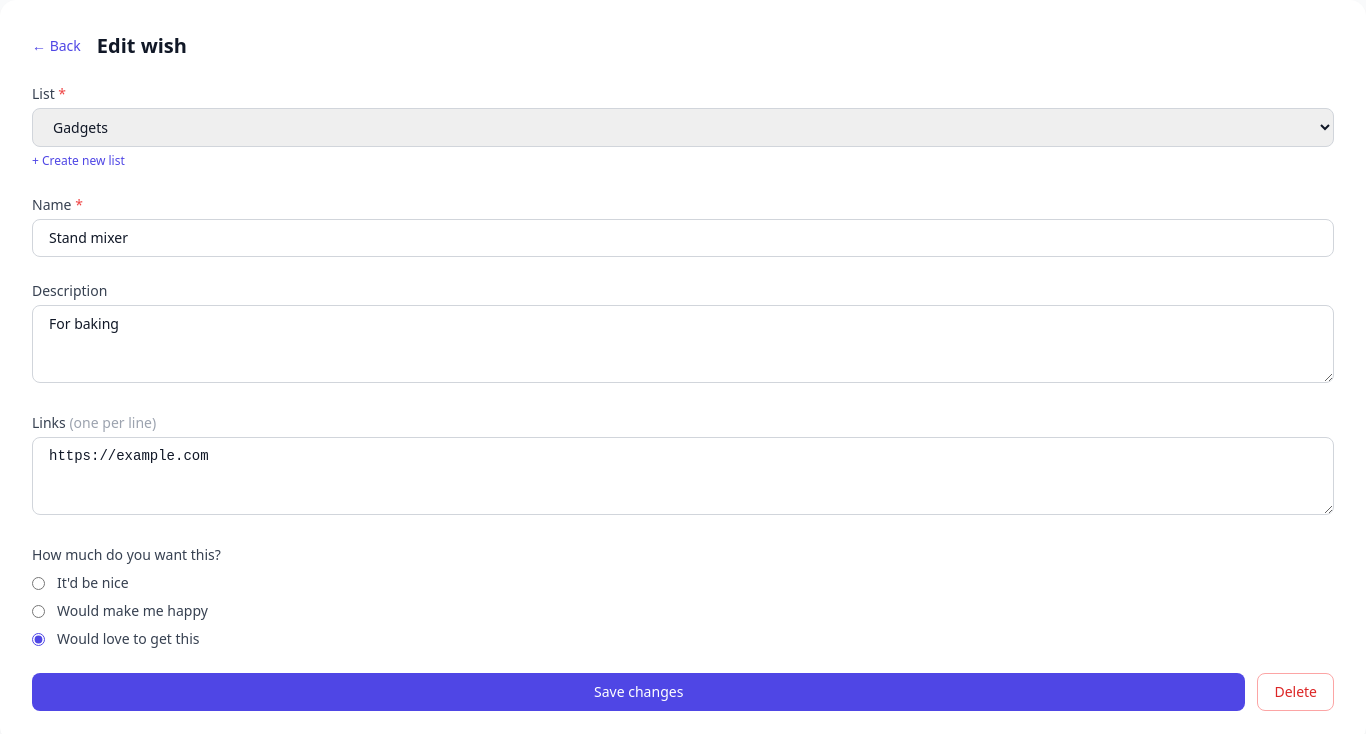
Test: EditWishForm — submit › shows an error message when PATCH fails
Click the button "Save changes" at (639, 692), box [32, 673, 1245, 711]
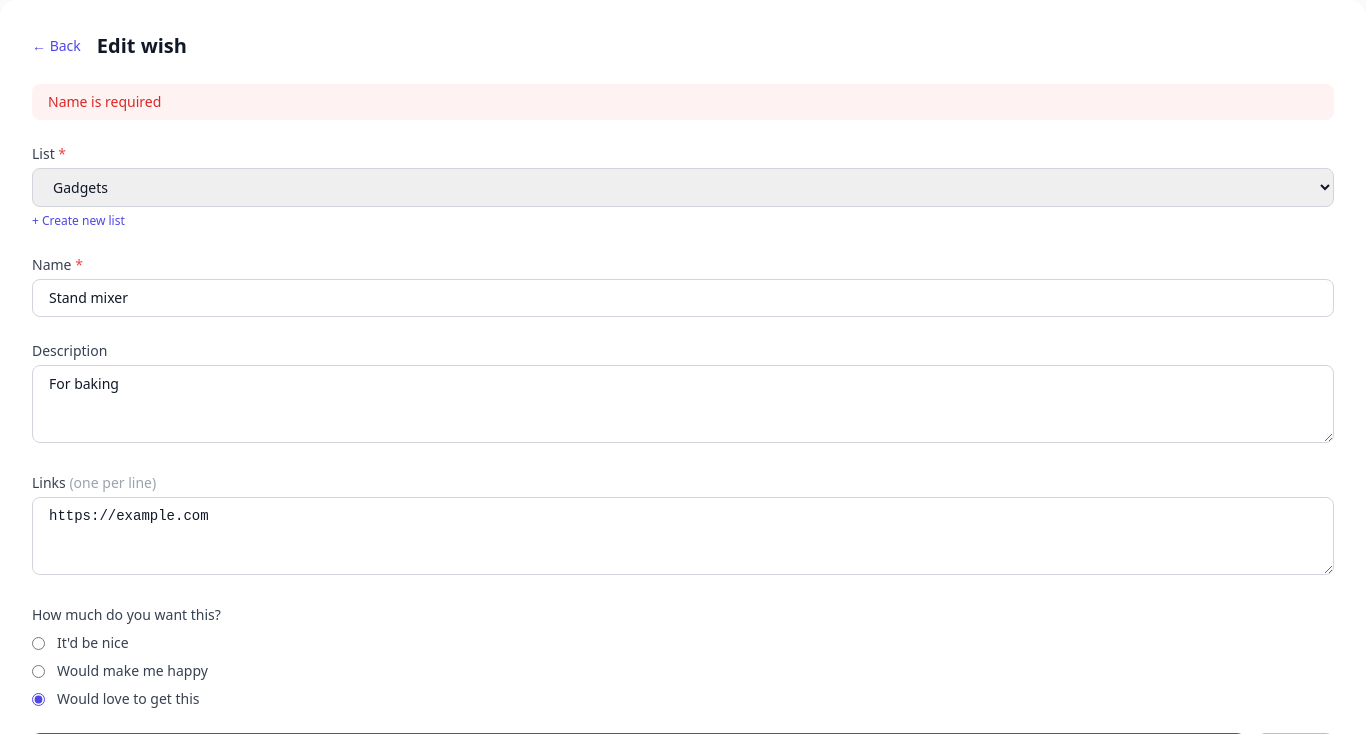
Result: the text "Name is required" is shown at [32, 84, 1334, 120]
